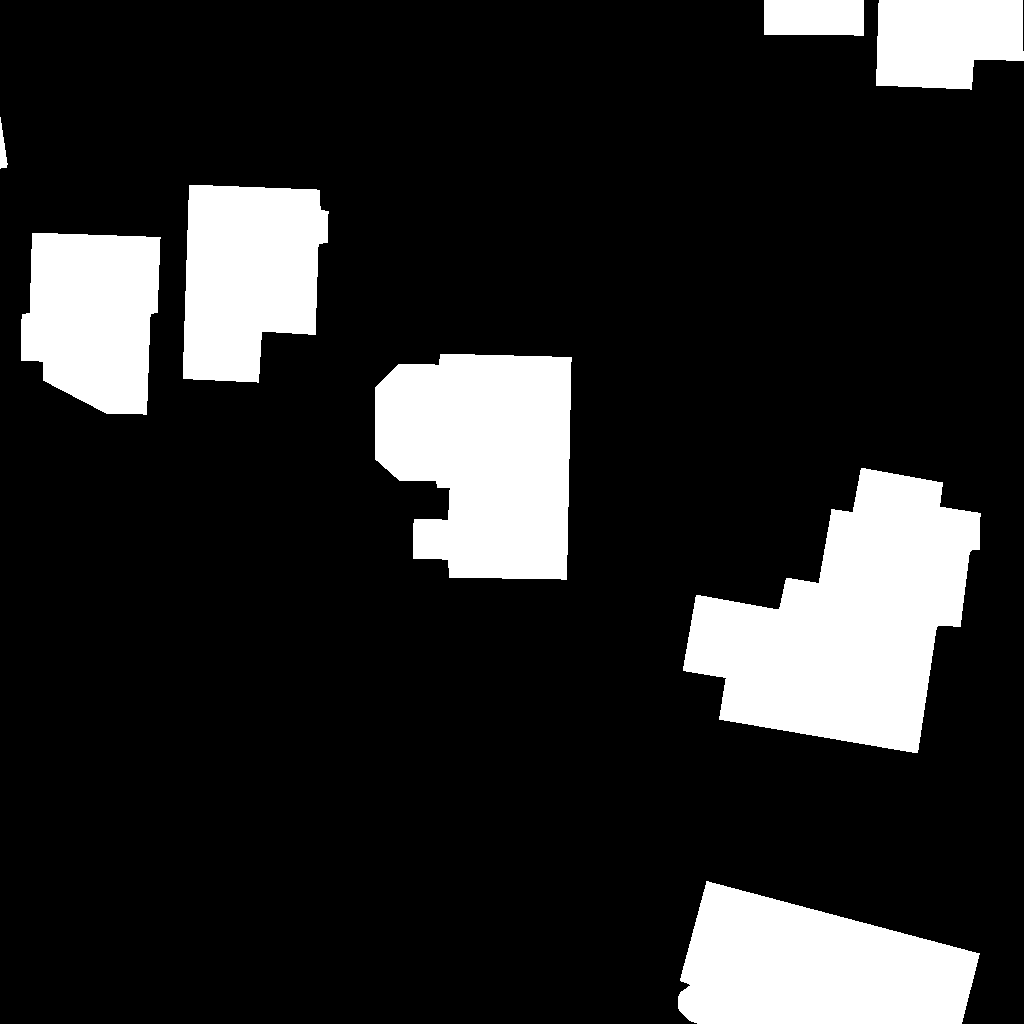building: (683, 468, 981, 754), (375, 354, 572, 580), (678, 881, 981, 1024), (183, 185, 329, 383), (21, 233, 161, 415), (876, 0, 1024, 90), (764, 0, 865, 36), (0, 114, 8, 169)
